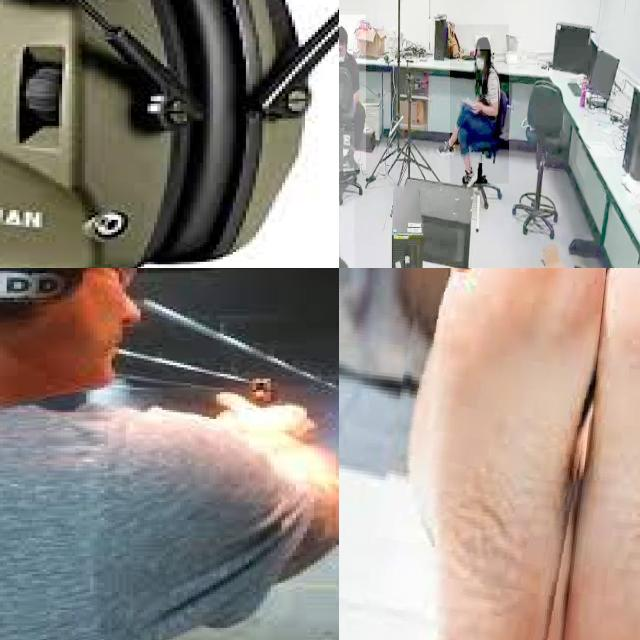Barefoots: (403, 268, 612, 640), (565, 268, 640, 640)
Ear-protection: (0, 0, 190, 268)
face_mask: (476, 51, 488, 80)
hand_noglove: (469, 98, 483, 115)
head_nohelmet: (476, 35, 490, 50), (339, 24, 347, 43)
person: (0, 268, 300, 640), (450, 24, 510, 184), (339, 14, 366, 171)
shoes: (461, 163, 475, 195), (435, 140, 455, 160)
